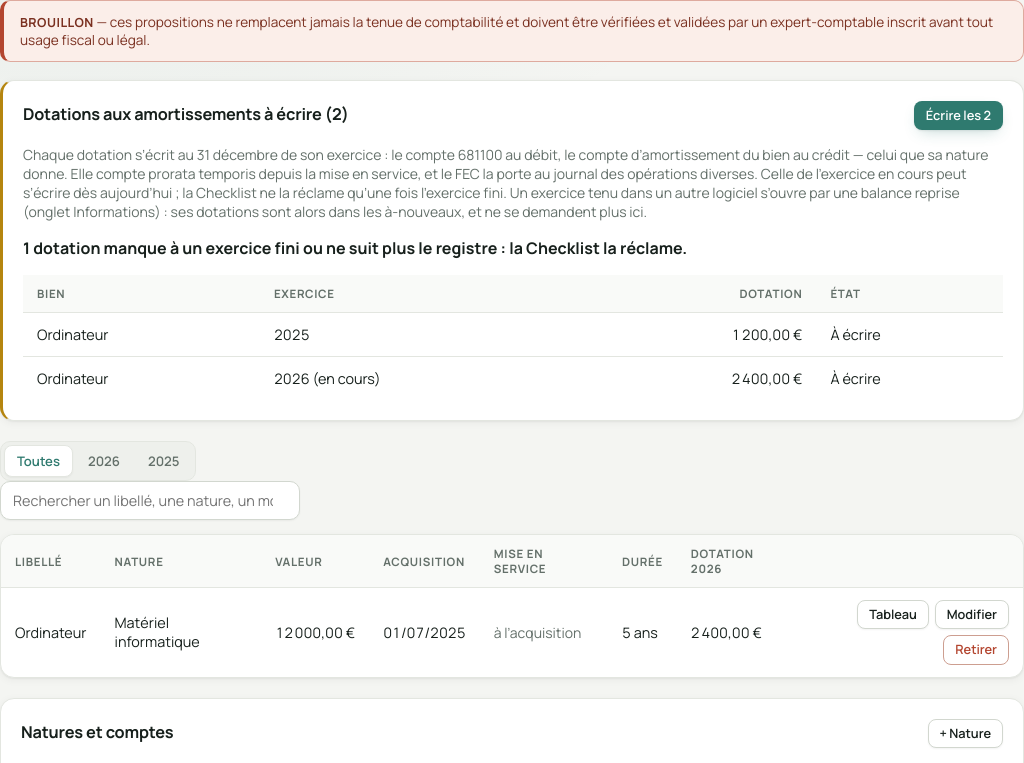
ImmobilisationsTab — les dotations à écrire › écrit chaque dotation par la base, avec l’écriture que la base vérifiera
expect the heading "Dotations aux amortissements à écrire (2)" is shown: met, box [23,103,349,125]
Click the button "Écrire les 2" at (958, 116), box [914,101,1003,130]
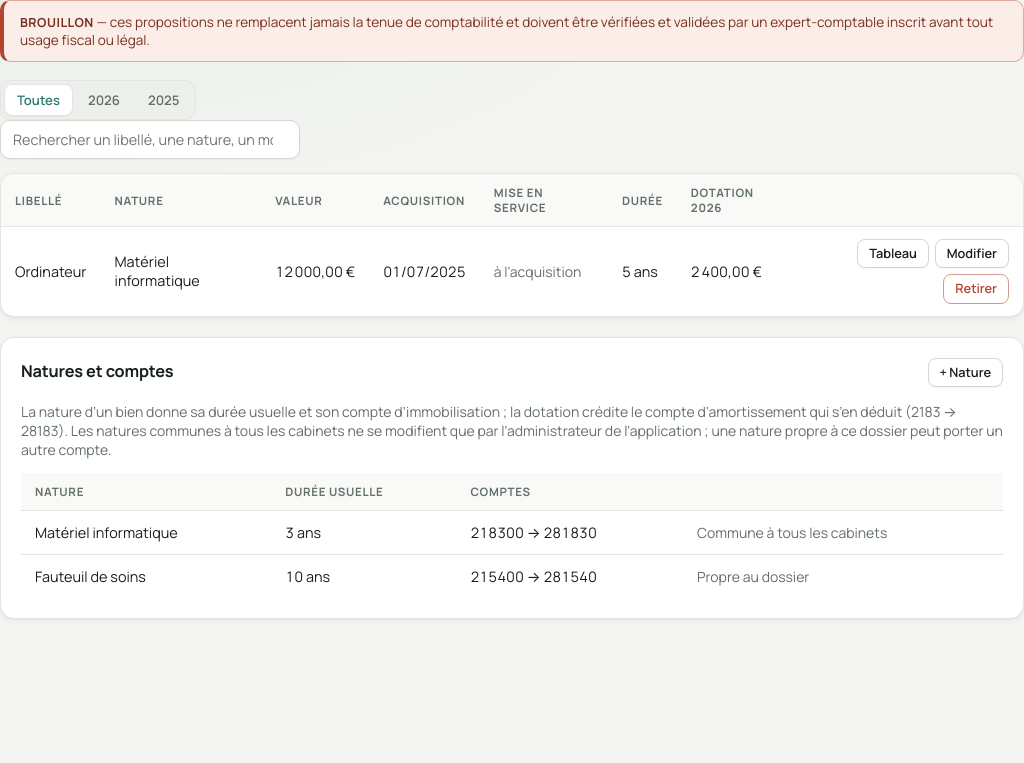
expect the heading "Dotations aux amortissements à écrire" is gone: met
